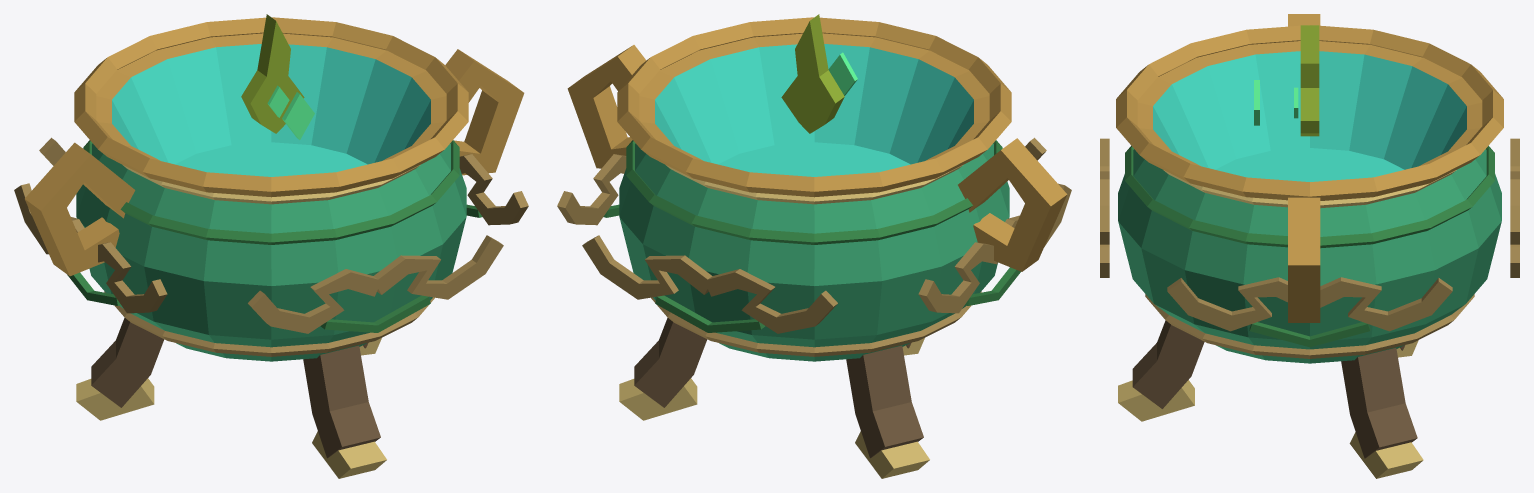
The model's file is blue_fire.obj.
3 views of the same model, side by side, from view 1: azimuth 30°, elevation 25°; view 2: azimuth 150°, elevation 25°; view 3: azimuth 270°, elevation 25° (orthographic).
Visible parts, largest first — view 1: legacy_vessel, legacy_vessel_inner, legacy_mouth_band, legacy_vessel_rim, legacy_vessel_hearth, legacy_shoulder_band, legacy_ear_-1, legacy_leg_02_legacy_leg_edge, legacy_ear_-1_edge, legacy_leg_01_legacy_leg, legacy_ear_1, legacy_lower_band (+21 smaller); view 2: legacy_vessel, legacy_vessel_inner, legacy_mouth_band, legacy_vessel_rim, legacy_vessel_hearth, legacy_shoulder_band, legacy_ear_-1, legacy_leg_01_legacy_leg_edge, legacy_ear_-1_edge, legacy_leg_00_legacy_leg, legacy_lower_band, legacy_ear_1 (+20 smaller); view 3: legacy_vessel, legacy_vessel_inner, legacy_mouth_band, legacy_vessel_rim, legacy_shoulder_band, legacy_vessel_hearth, legacy_ear_1_edge, legacy_leg_00_legacy_leg_edge, legacy_lower_band, legacy_leg_02_legacy_leg, legacy_relief_01_cloud_right, legacy_relief_01_cloud_left (+16 smaller).
Part boxes in pixels (x1,y1,x2,y2): legacy_vessel: (76, 143, 466, 361); legacy_vessel_inner: (112, 44, 430, 164); legacy_mouth_band: (74, 17, 468, 197); legacy_vessel_rim: (96, 33, 446, 160); legacy_vessel_hearth: (175, 142, 367, 176); legacy_shoulder_band: (83, 140, 459, 244); legacy_ear_-1: (41, 154, 135, 276); legacy_leg_02_legacy_leg_edge: (320, 345, 380, 457); legacy_ear_-1_edge: (25, 142, 122, 275); legacy_leg_01_legacy_leg: (91, 322, 164, 407); legacy_ear_1: (459, 61, 524, 175); legacy_lower_band: (104, 291, 434, 356); legacy_vessel: (619, 143, 1009, 361); legacy_vessel_inner: (655, 44, 973, 164); legacy_mouth_band: (617, 17, 1011, 197); legacy_vessel_rim: (639, 33, 989, 160); legacy_vessel_hearth: (718, 142, 910, 176); legacy_shoulder_band: (626, 140, 1002, 244); legacy_ear_-1: (958, 150, 1050, 271); legacy_leg_01_legacy_leg_edge: (863, 345, 923, 457); legacy_ear_-1_edge: (971, 138, 1067, 271); legacy_leg_00_legacy_leg: (634, 322, 707, 407); legacy_lower_band: (651, 291, 981, 356); legacy_ear_1: (567, 56, 631, 168); legacy_vessel: (1118, 149, 1501, 363); legacy_vessel_inner: (1153, 51, 1466, 169); legacy_mouth_band: (1116, 25, 1503, 200); legacy_vessel_rim: (1137, 41, 1482, 166); legacy_shoulder_band: (1125, 145, 1494, 248); legacy_vessel_hearth: (1215, 148, 1404, 181); legacy_ear_1_edge: (1288, 197, 1320, 322); legacy_leg_00_legacy_leg_edge: (1358, 348, 1417, 458); legacy_lower_band: (1145, 294, 1474, 358); legacy_leg_02_legacy_leg: (1133, 325, 1204, 408); legacy_relief_01_cloud_right: (1320, 281, 1452, 331); legacy_relief_01_cloud_left: (1167, 281, 1287, 331).
Size of the model in its own units: 1.86 by 1.45 by 1.42.
